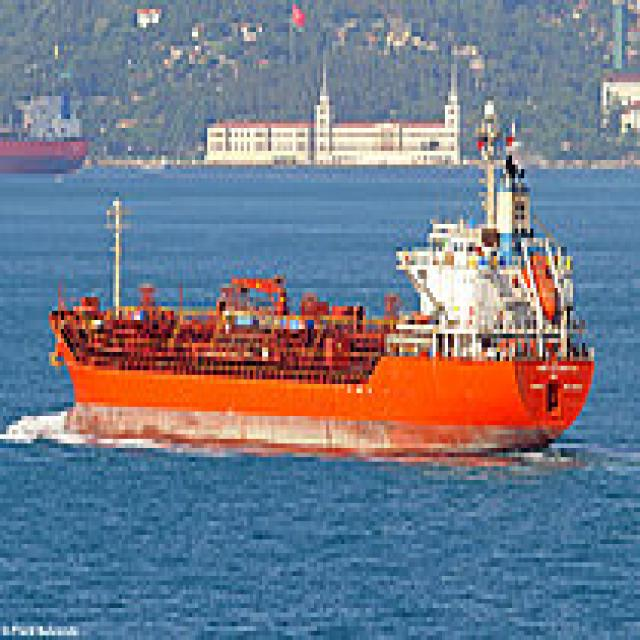Tanker: (43, 96, 591, 453), (0, 82, 85, 169)
